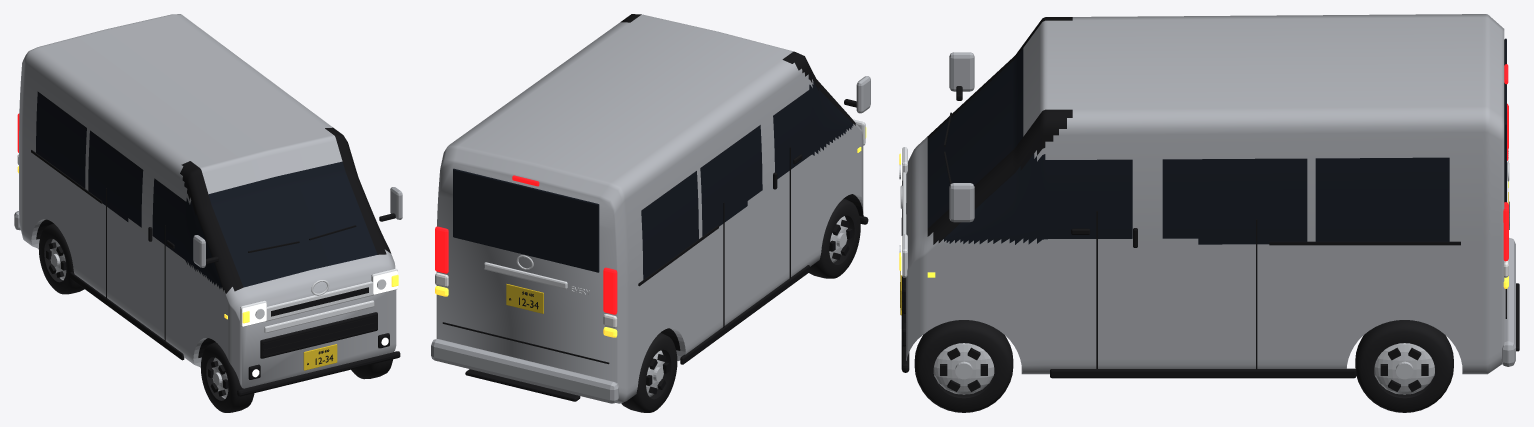
File: van_every_grey.glb
The picture shows the model from 3 angles, left to right: view 1: azimuth 30°, elevation 25°; view 2: azimuth 150°, elevation 25°; view 3: azimuth 270°, elevation 25°; orthographic projection. The views are drawn at different scales.
Parts seen in each view (by area): view 1: van_every_grey; view 2: van_every_grey; view 3: van_every_grey.
Part boxes in pixels (bbox=[...]): van_every_grey: bbox=[14, 14, 402, 412]; van_every_grey: bbox=[431, 14, 870, 412]; van_every_grey: bbox=[899, 14, 1519, 412].
Bounding box in the file's own units: 1.81 × 1.89 × 3.52.
